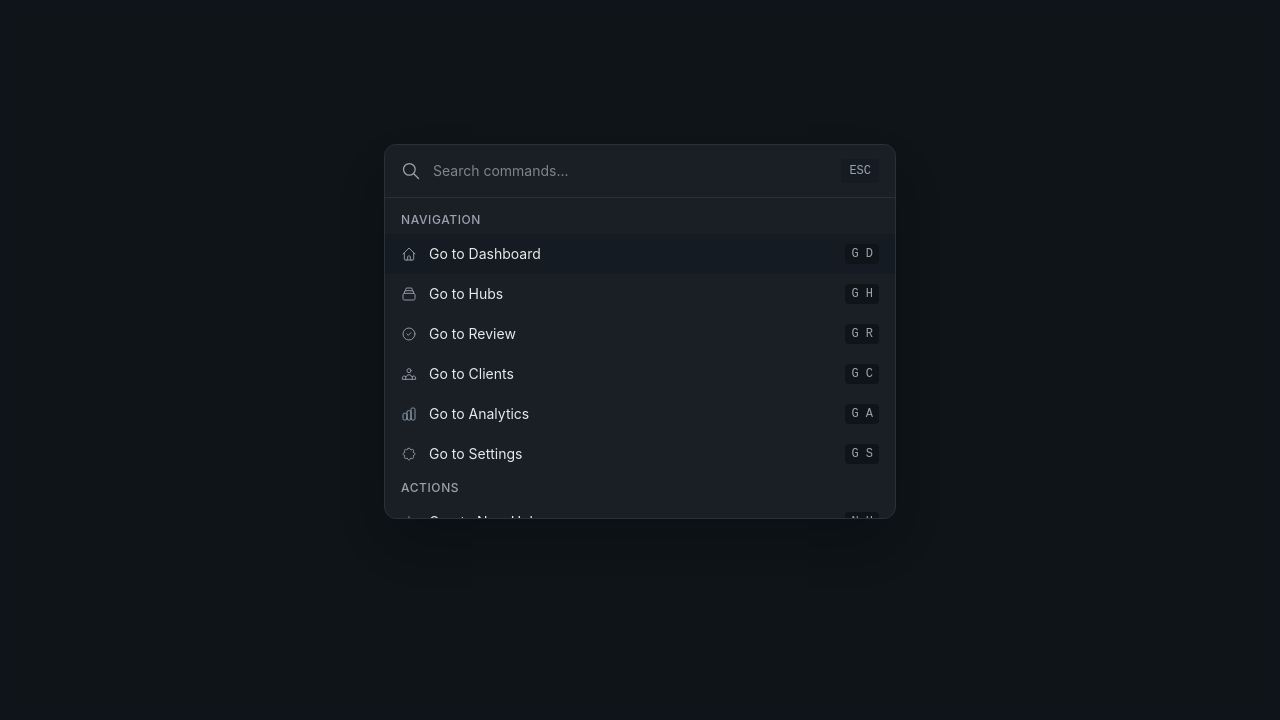
CommandPalette › Search Filtering › shows No commands found when no matches
The width and height of the screenshot is (1280, 720).
Type "nonexistent command xyz" into the field with test id "command-palette-search". click: (631, 171)
box: [421, 145, 841, 197]
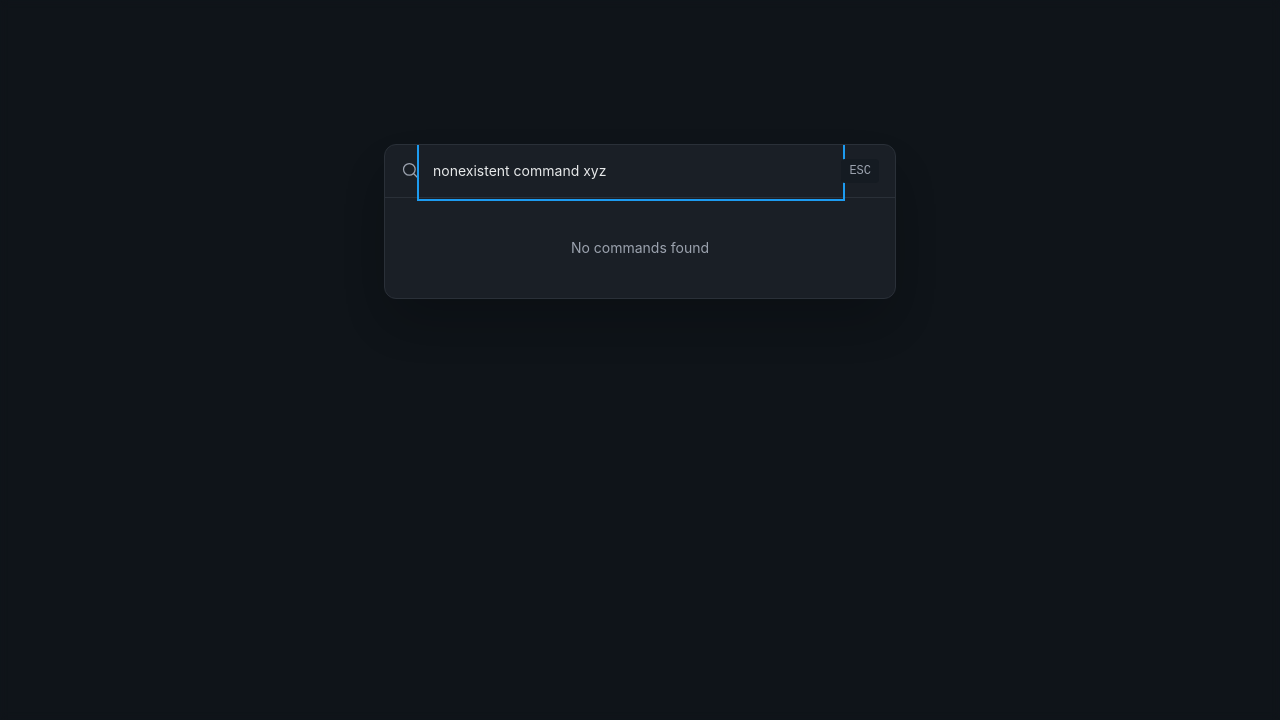
Now the text "No commands found" is shown, box [571, 239, 709, 256]
